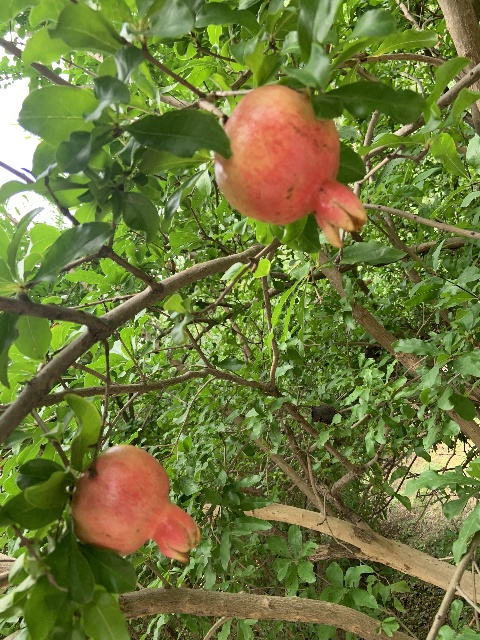ripe: (214, 84, 366, 248), (71, 445, 200, 562)
